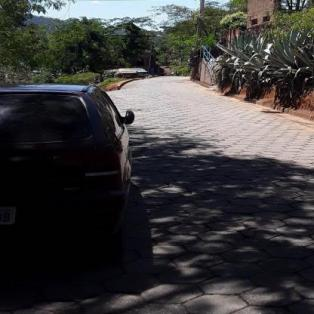Poste: (187, 0, 211, 79)
